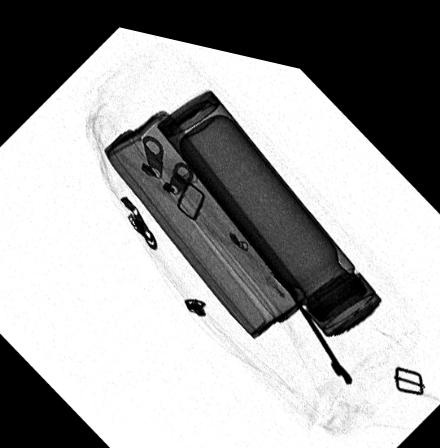Wrench: (272, 260, 353, 370)
